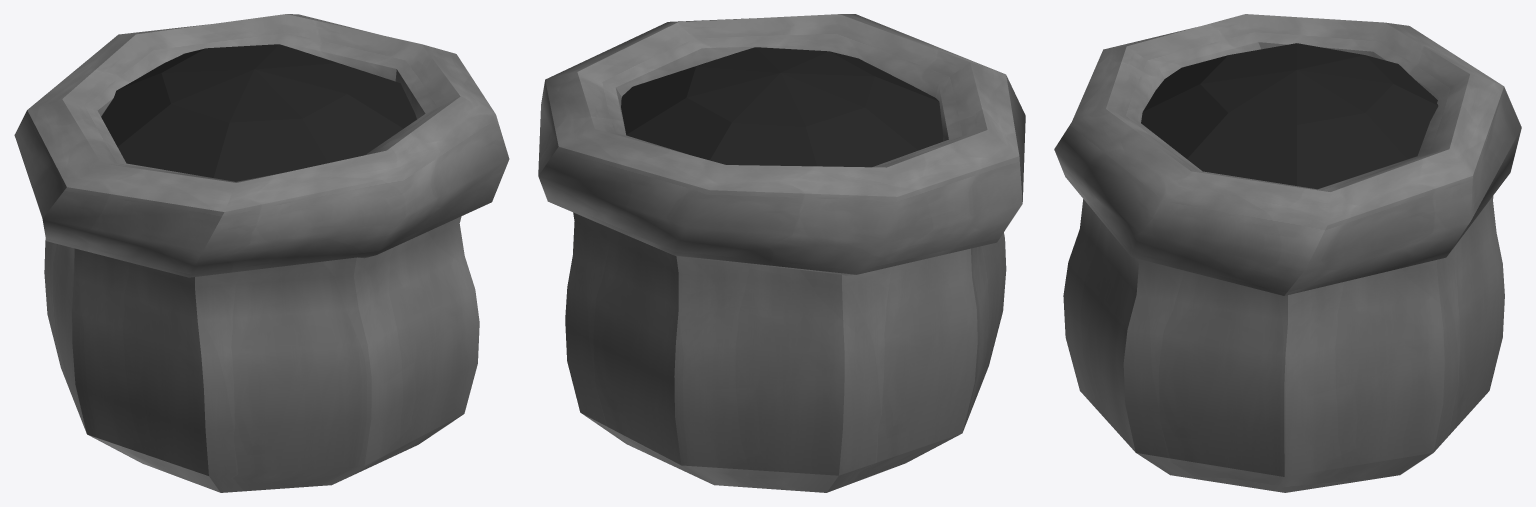
Rendered from gunpowder.fbx.
The picture shows the model from 3 angles, left to right: view 1: azimuth 30°, elevation 25°; view 2: azimuth 150°, elevation 25°; view 3: azimuth 270°, elevation 25°; orthographic projection.
Parts seen in each view (by area): view 1: Cube, Torus.001, Sphere; view 2: Cube, Torus.001, Sphere; view 3: Cube, Torus.001, Sphere.
Part boxes in pixels (left/top/right/bottom): Cube: left=44, top=216, right=479, bottom=492; Torus.001: left=14, top=14, right=509, bottom=277; Sphere: left=101, top=44, right=416, bottom=181; Cube: left=565, top=212, right=1006, bottom=492; Torus.001: left=538, top=14, right=1025, bottom=275; Sphere: left=621, top=47, right=943, bottom=167; Cube: left=1063, top=196, right=1504, bottom=492; Torus.001: left=1054, top=14, right=1521, bottom=295; Sphere: left=1141, top=43, right=1438, bottom=189.
Size of the model in its own units: 272 by 214 by 240.
